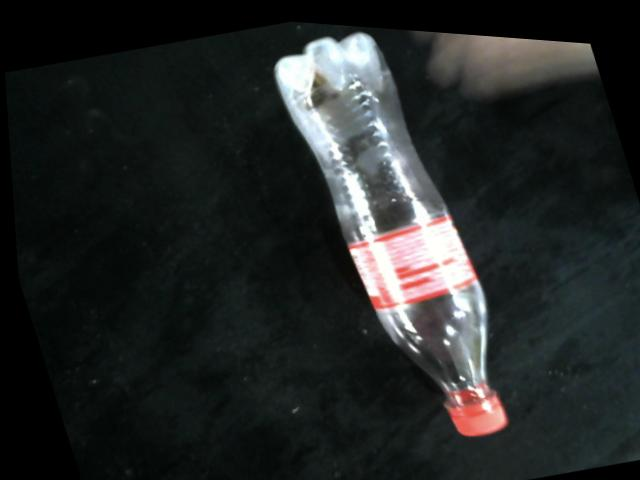bottle: (272, 25, 505, 431)
